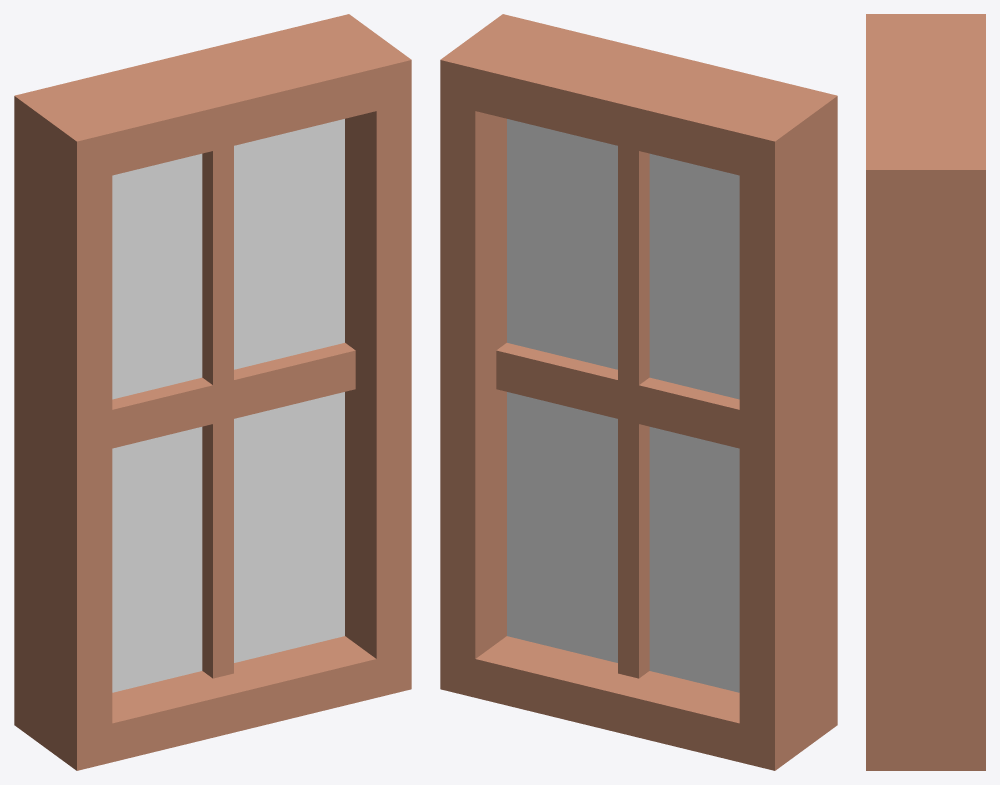
File: Window.fbx
3 renders of one model, left to right at view 1: azimuth 30°, elevation 25°; view 2: azimuth 150°, elevation 25°; view 3: azimuth 270°, elevation 25°, orthographic. The views are drawn at different scales.
Parts seen in each view (by area): view 1: window_decorative; view 2: window_decorative; view 3: window_decorative.
Boxes of the visible parts, x1,y1,x2,y2 form: window_decorative: [14, 14, 411, 770]; window_decorative: [440, 14, 837, 770]; window_decorative: [866, 14, 985, 770].
Bounding box in the file's own units: 114 × 205 × 37.
